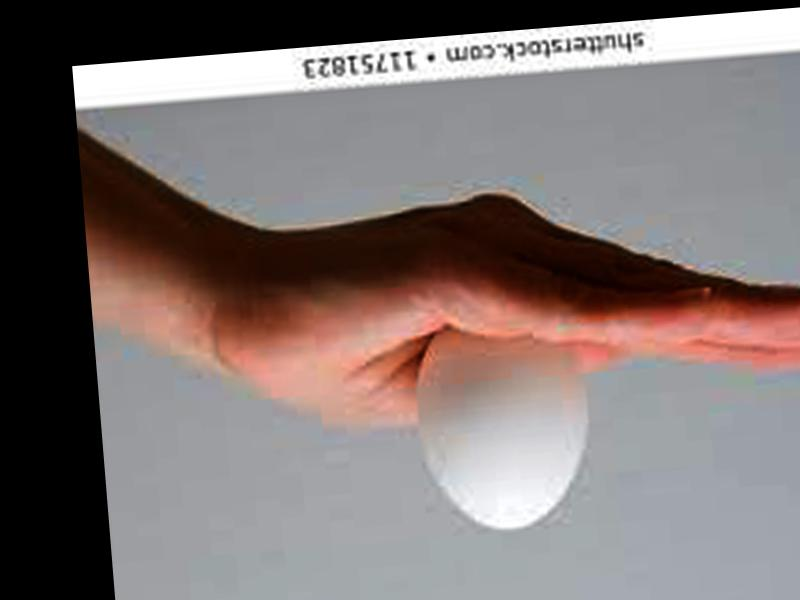Eggs: (419, 316, 595, 533)
